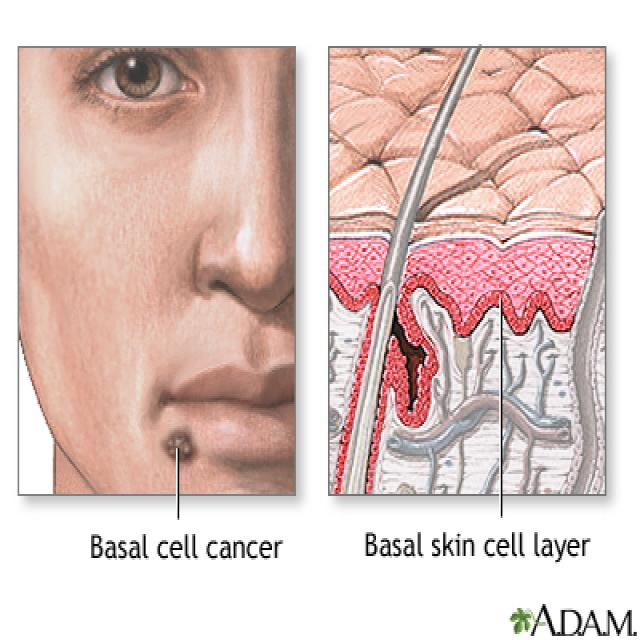Cancer: (158, 424, 202, 468)
